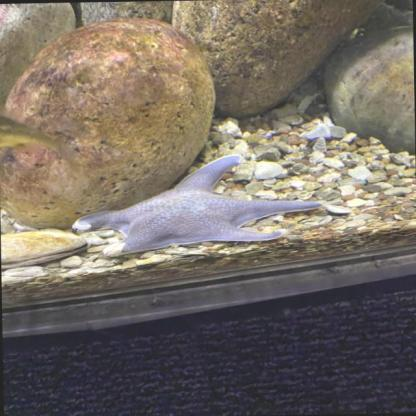starfish: (70, 153, 327, 260)
